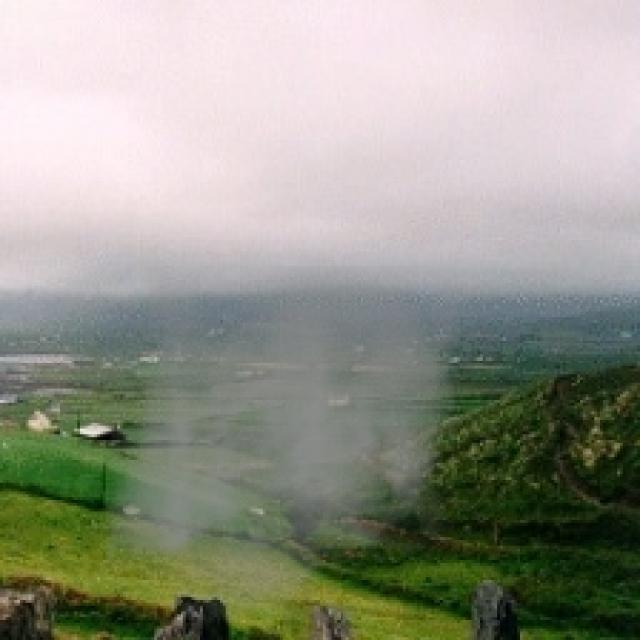smoke: (106, 266, 460, 631)
